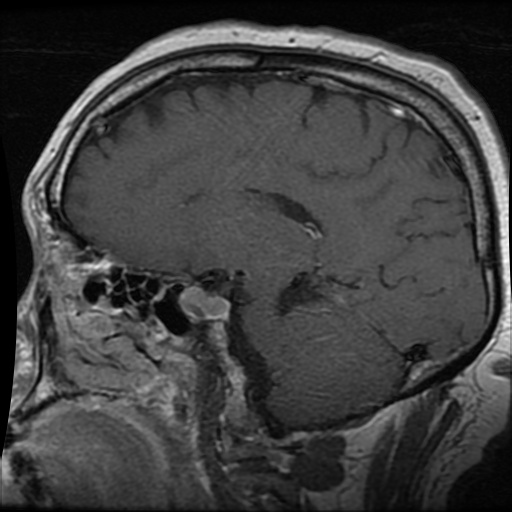pituitary: (179, 287, 228, 320)
